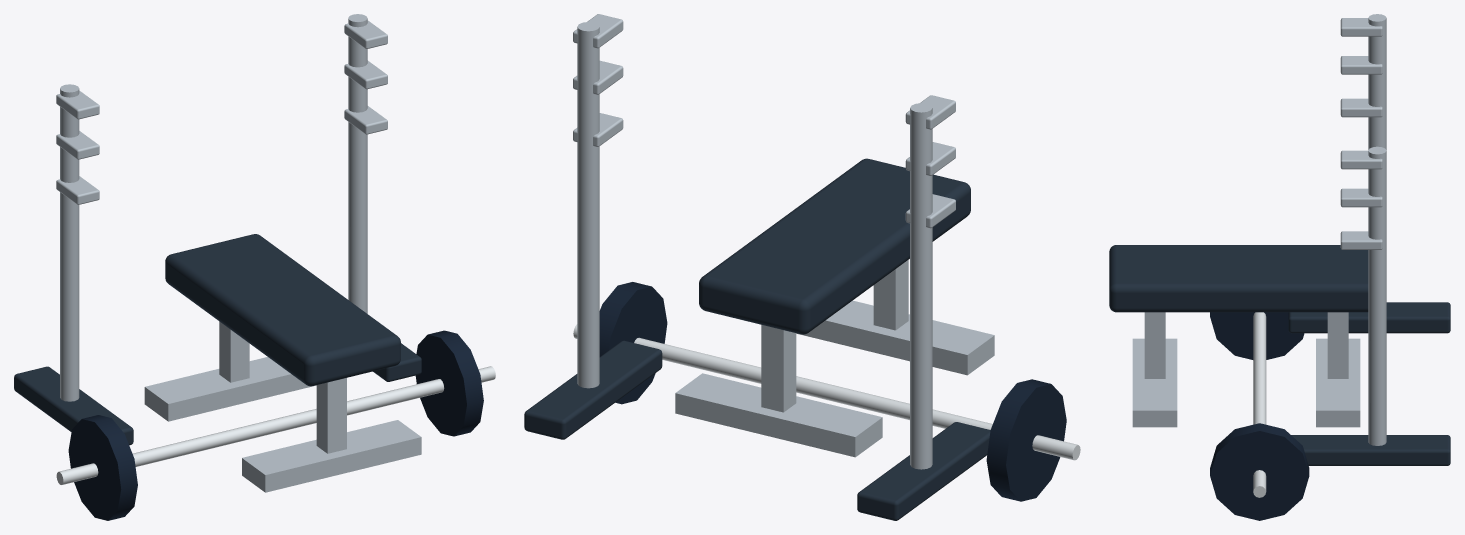
File: flat_bench.glb
3 views of the same model, side by side, from view 1: azimuth 30°, elevation 25°; view 2: azimuth 150°, elevation 25°; view 3: azimuth 270°, elevation 25° (orthographic). The views are drawn at different scales.
Parts seen in each view (by area): view 1: seat, benchFoot (×2), barbell_plate (×2), rack (×2), barbell, barHook (×6), rackFoot (×2), benchLeg (×2); view 2: seat, rack (×2), benchFoot (×2), rackFoot (×2), barbell_plate (×2), barbell, benchLeg (×2), barHook (×6); view 3: seat, barbell_plate (×2), rackFoot (×2), rack (×2), benchFoot (×2), barHook (×6), benchLeg (×2), barbell.
Part boxes in pixels (bbox=[...]): seat: bbox=[165, 234, 400, 386]; benchFoot (×2): bbox=[144, 357, 421, 492]; barbell_plate (×2): bbox=[68, 330, 483, 520]; rack (×2): bbox=[60, 14, 367, 401]; barbell: bbox=[56, 366, 495, 484]; barHook (×6): bbox=[56, 20, 387, 204]; rackFoot (×2): bbox=[14, 343, 421, 445]; benchLeg (×2): bbox=[219, 321, 346, 453]; seat: bbox=[699, 158, 970, 334]; rack (×2): bbox=[577, 22, 932, 469]; benchFoot (×2): bbox=[675, 300, 994, 457]; rackFoot (×2): bbox=[524, 340, 990, 520]; barbell_plate (×2): bbox=[599, 282, 1066, 501]; barbell: bbox=[573, 324, 1080, 460]; benchLeg (×2): bbox=[761, 260, 908, 412]; barHook (×6): bbox=[573, 14, 955, 228]; seat: bbox=[1109, 245, 1368, 312]; barbell_plate (×2): bbox=[1210, 312, 1309, 520]; rackFoot (×2): bbox=[1288, 302, 1450, 465]; rack (×2): bbox=[1368, 14, 1386, 445]; benchFoot (×2): bbox=[1132, 338, 1360, 427]; barHook (×6): bbox=[1340, 18, 1382, 249]; benchLeg (×2): bbox=[1144, 312, 1348, 378]; barbell: bbox=[1253, 312, 1266, 497].
Bounding box in the file's own units: 1.8 × 1.49 × 1.3.
